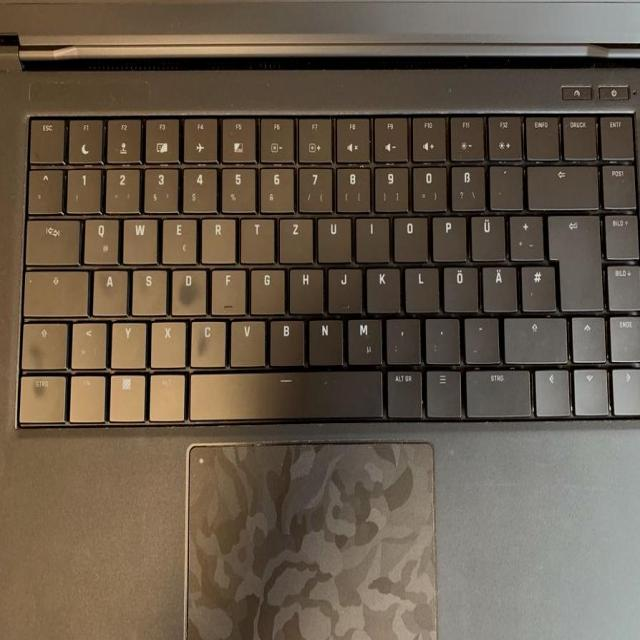0: (409, 162, 445, 209)
1: (64, 163, 100, 210)
2: (102, 163, 139, 211)
3: (140, 163, 177, 211)
4: (180, 163, 216, 211)
5: (219, 163, 254, 211)
6: (257, 162, 293, 210)
7: (296, 163, 331, 211)
8: (333, 163, 368, 211)
9: (371, 162, 407, 210)
a: (89, 264, 126, 312)
accent: (486, 161, 521, 208)
ae: (479, 261, 515, 309)
alt-left: (146, 369, 183, 419)
altgr-right: (384, 365, 420, 415)
b: (266, 313, 303, 363)
c: (186, 314, 225, 365)
caret: (24, 163, 61, 211)
comma: (382, 311, 418, 361)
d: (168, 263, 205, 312)
del: (525, 160, 596, 207)
e: (159, 212, 195, 262)
enter: (544, 210, 601, 308)
f: (208, 263, 244, 312)
g: (247, 263, 283, 311)
h: (286, 263, 322, 311)
hash: (517, 260, 554, 308)
i: (352, 212, 388, 259)
j: (324, 262, 360, 310)
k: (363, 262, 399, 310)
keyboard: (6, 101, 640, 430)
l: (402, 262, 438, 310)
less: (68, 316, 106, 366)
m: (344, 312, 380, 362)
minus: (460, 312, 497, 360)
n: (306, 313, 342, 362)
o: (390, 211, 426, 259)
oe: (440, 261, 476, 309)
p: (429, 210, 465, 258)
plus: (506, 209, 542, 257)
point: (422, 312, 458, 360)
q: (81, 212, 118, 262)
r: (198, 212, 235, 261)
s: (129, 264, 166, 312)
shift-left: (18, 316, 66, 367)
shift-lock: (20, 264, 87, 314)
shift-right: (500, 311, 565, 360)
space: (186, 365, 380, 417)
ss: (448, 161, 484, 209)
strg-left: (15, 370, 65, 421)
strg-right: (462, 364, 530, 415)
t: (237, 212, 273, 260)
tab: (22, 213, 79, 263)
u: (314, 211, 350, 261)
ue: (467, 209, 504, 258)
v: (227, 313, 264, 364)
w: (120, 212, 156, 262)
x: (148, 315, 185, 365)
y: (108, 316, 145, 365)
z: (276, 212, 312, 261)
